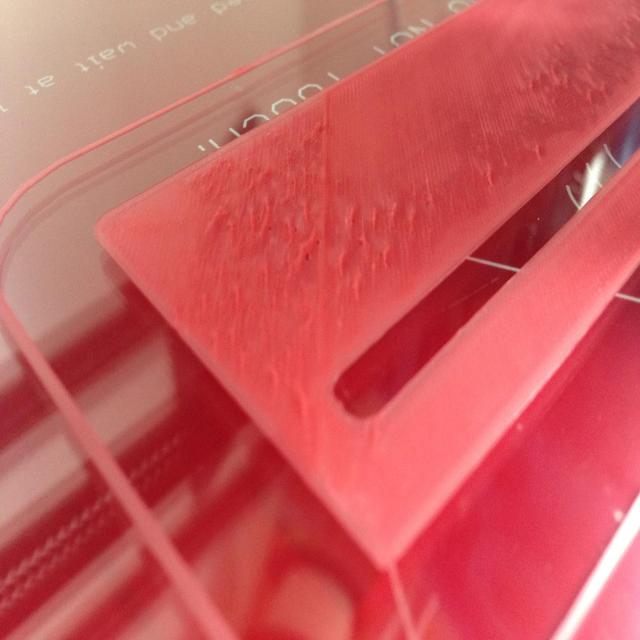spaghetti: (163, 3, 640, 350)
